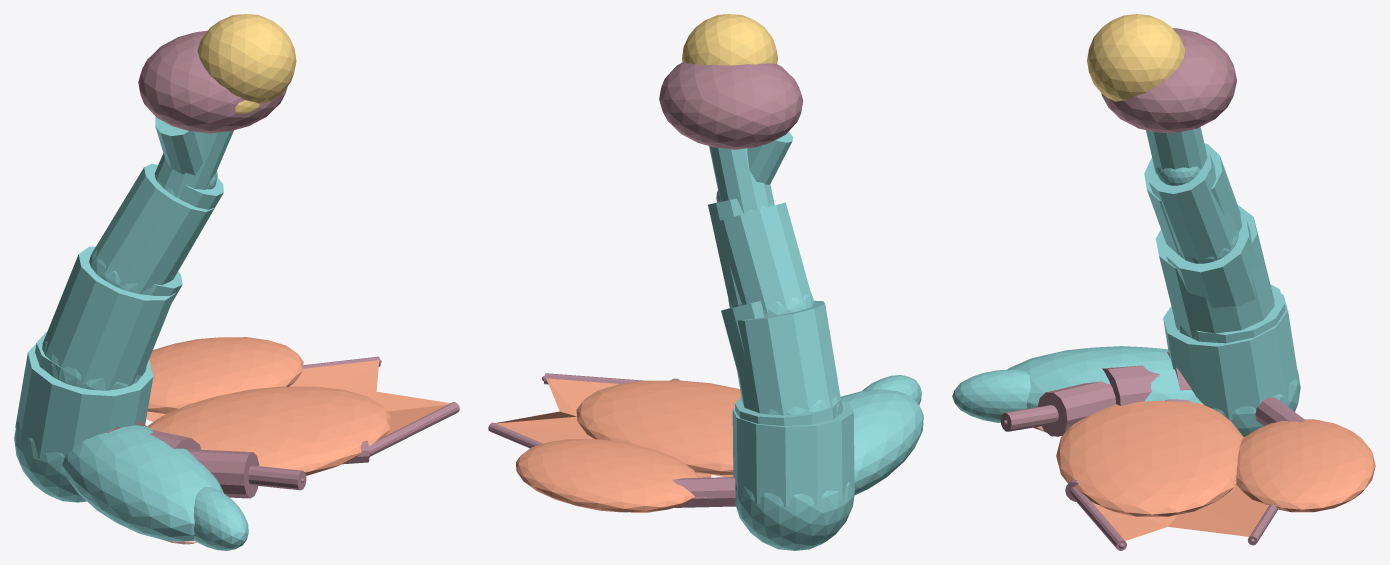
Rendered from fire-dragon-parts.glb.
3 renders of one model, left to right at view 1: azimuth 30°, elevation 25°; view 2: azimuth 150°, elevation 25°; view 3: azimuth 270°, elevation 25°, orthographic. The views are drawn at different scales.
Visible parts, largest first — view 1: tail.spade, wings.fairy, ears.point, tail.flowy, wings.bat, horns.curved; view 2: tail.spade, wings.fairy, tail.flowy, ears.point, wings.bat; view 3: wings.fairy, tail.spade, tail.flowy, ears.point, wings.bat, horns.curved.
Boxes of the visible parts, x1,y1,x2,y2 form: tail.spade: (14,30,287,502); wings.fairy: (147,337,391,475); ears.point: (62,425,248,550); tail.flowy: (35,14,296,383); wings.bat: (146,356,459,464); horns.curved: (107,420,306,498); tail.spade: (659,62,854,550); wings.fairy: (515,380,741,512); tail.flowy: (682,14,842,426); ears.point: (840,375,923,495); wings.bat: (488,373,735,507); wings.fairy: (1056,400,1375,516); tail.spade: (1101,28,1300,436); tail.flowy: (1087,14,1285,343); ears.point: (952,346,1201,432); wings.bat: (1065,397,1305,550); horns.curved: (1000,352,1191,436).
Size of the model in its own units: 1.12 by 1.39 by 1.1.
